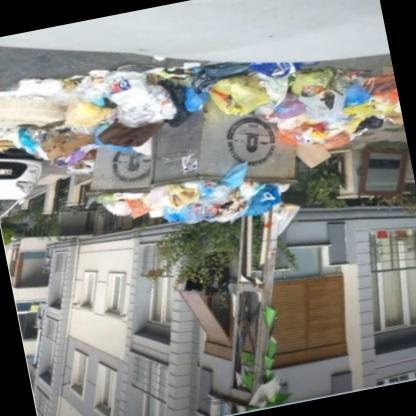Garbage: (104, 169, 283, 242), (290, 56, 405, 153), (104, 56, 226, 144), (228, 51, 338, 122), (22, 106, 110, 166)
